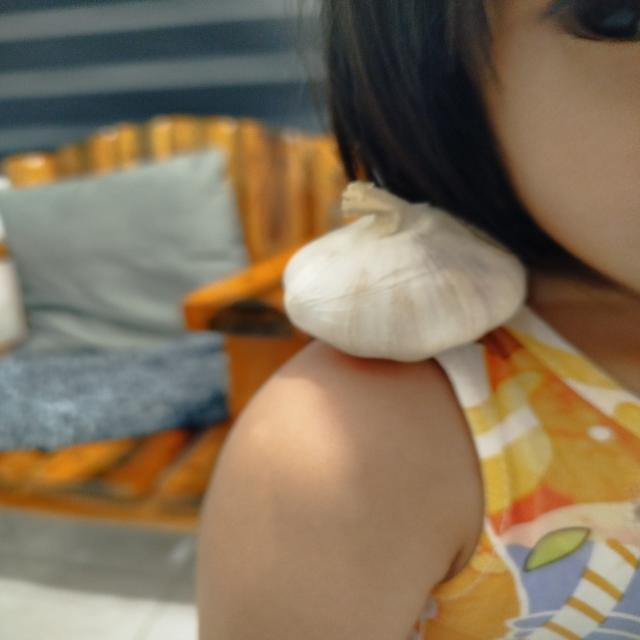garlic: (241, 153, 542, 380)
